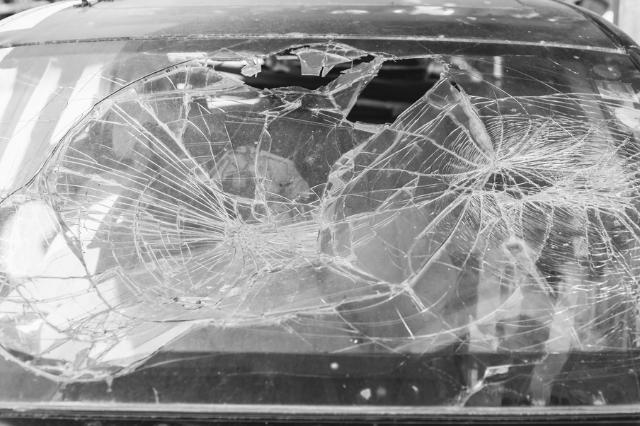Windshield: (0, 48, 640, 404)
